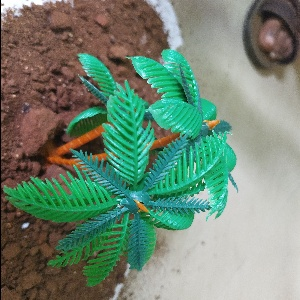plant: (26, 40, 237, 273)
